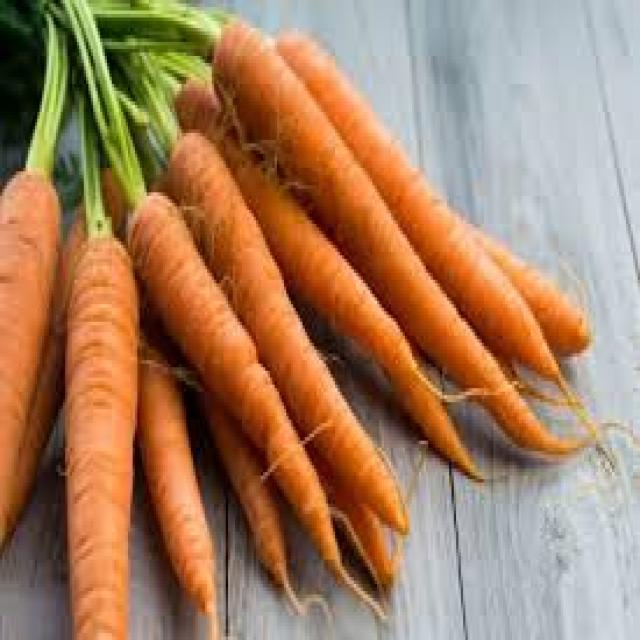Carrot: (66, 240, 136, 640)
